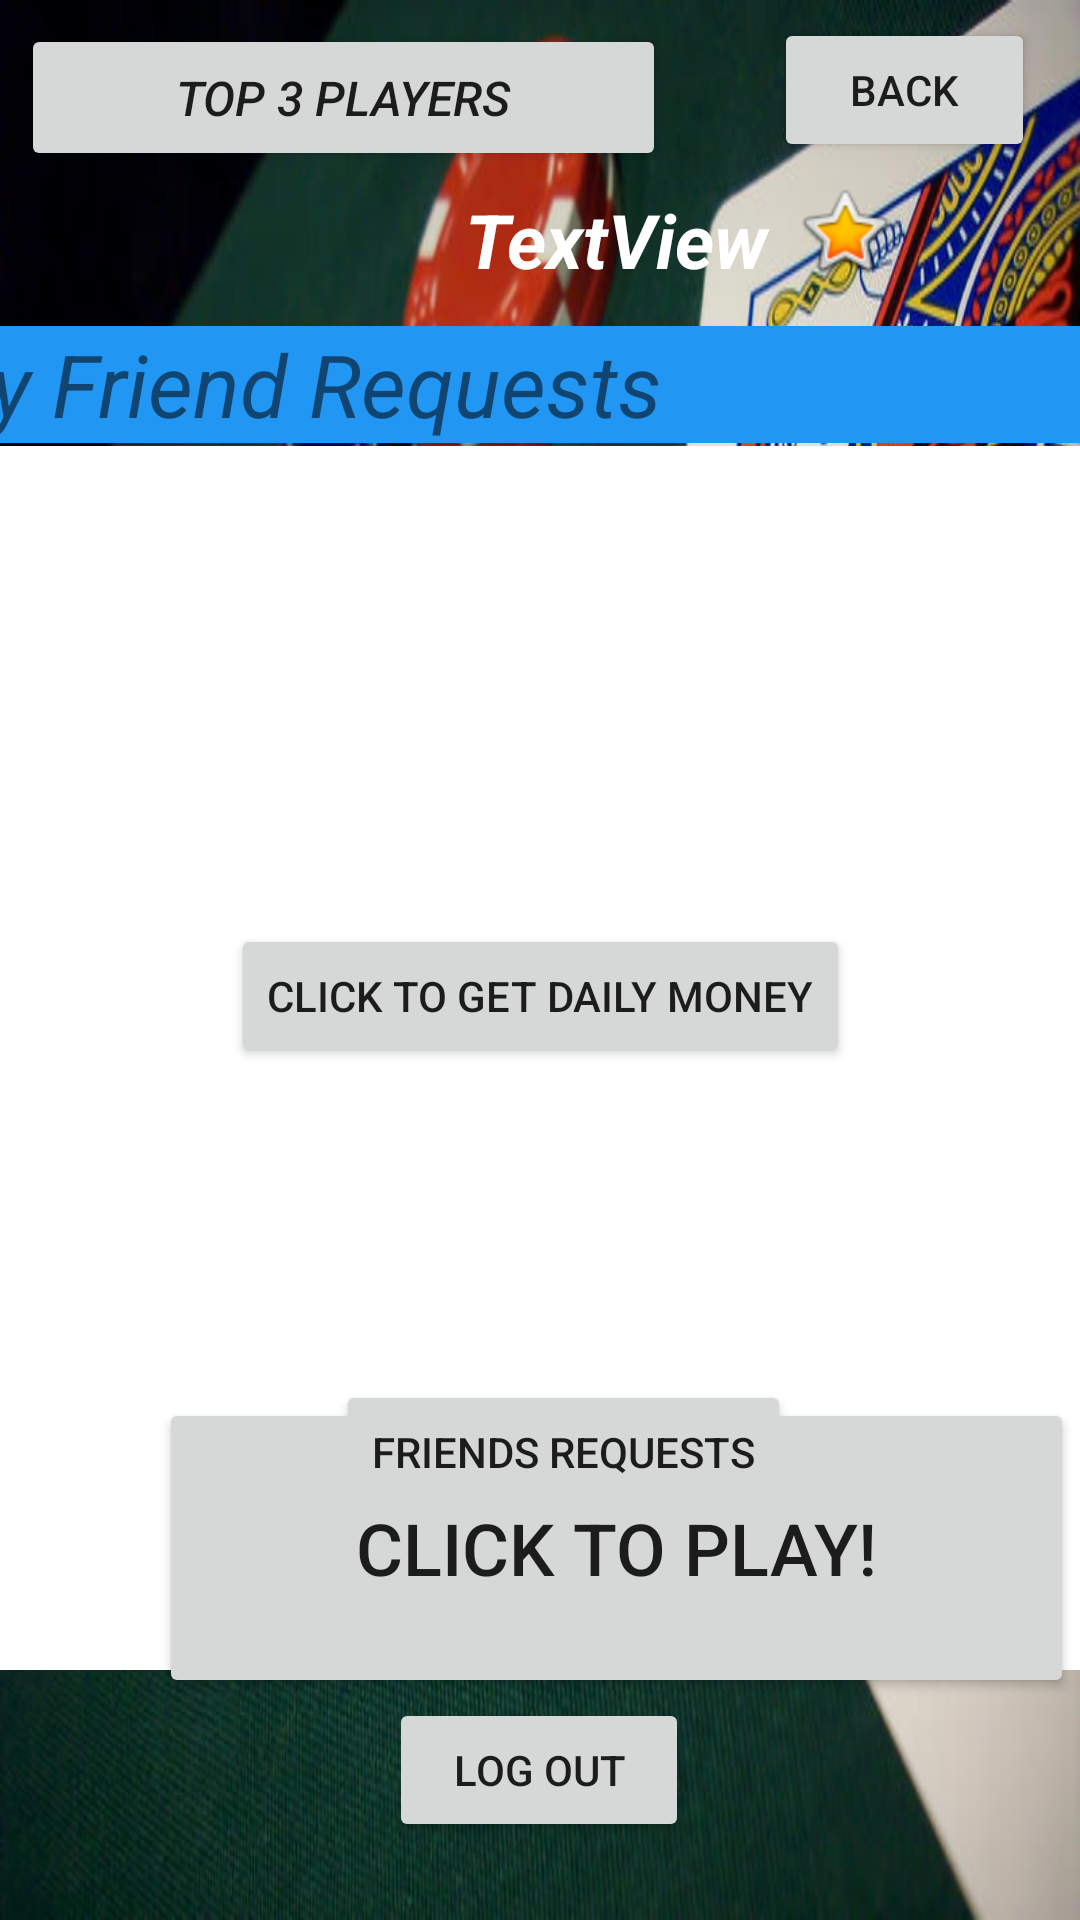

Icon bounding boxes for this 1080px x 1920px phone screenshot, format (x1, y1, x2, y2):
star on: (789, 190, 900, 282)
